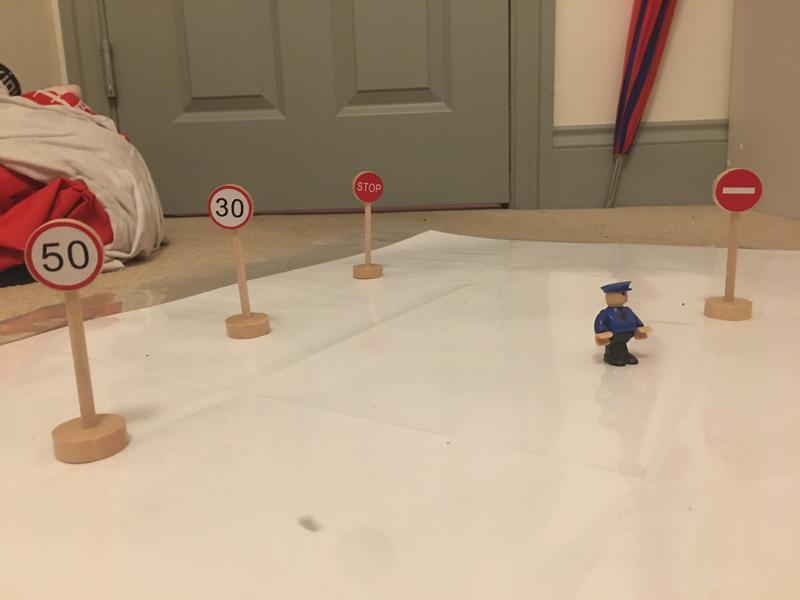Traffic_Sign_30: (209, 185, 252, 229)
Traffic_Sign_50: (25, 219, 104, 290)
Traffic_Sign_No_Entry: (716, 167, 763, 212)
Traffic_Sign_Stop: (355, 171, 383, 201)
person: (591, 280, 652, 371)
